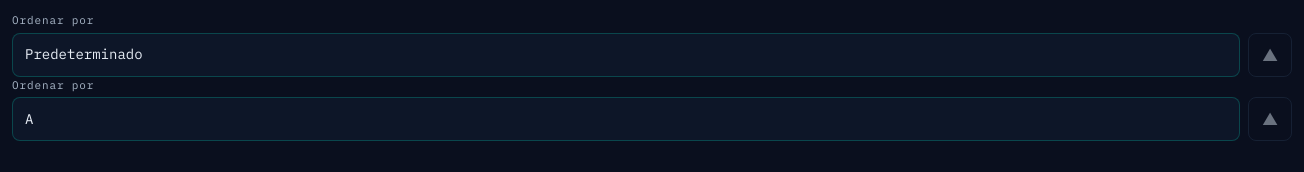
it: OrdenMovil › elegir columna -> asc; boton alterna; Predeterminado -> null
Step 1. Select "A" in the 2nd dropdown labelled "Ordenar por" → (626, 119), box [12,97,1240,141]
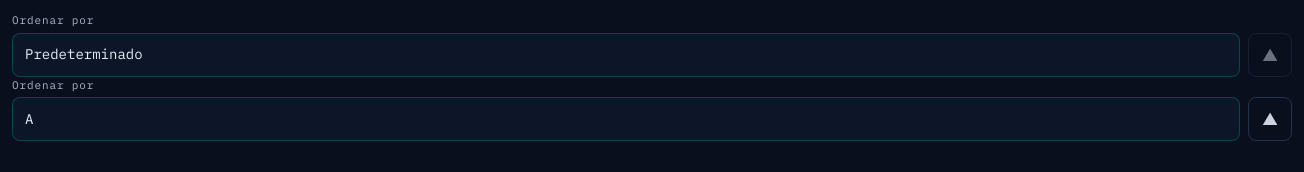
Check: the 2nd button "▲" is enabled
Step 2. Click the 2nd button "▲" → (1270, 119), box [1248,97,1292,141]
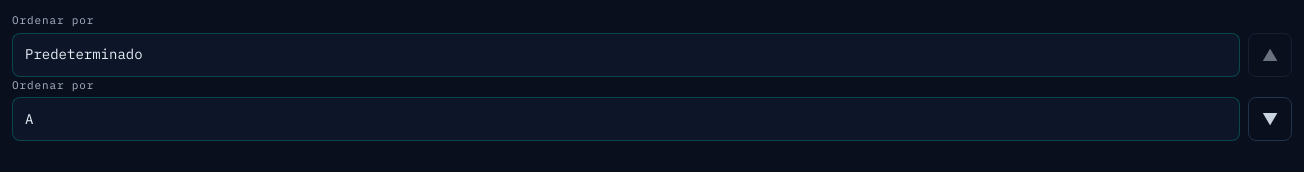
Check: the button "▼" is shown
Step 3. Click the button "▼" → (1270, 119), box [1248,97,1292,141]
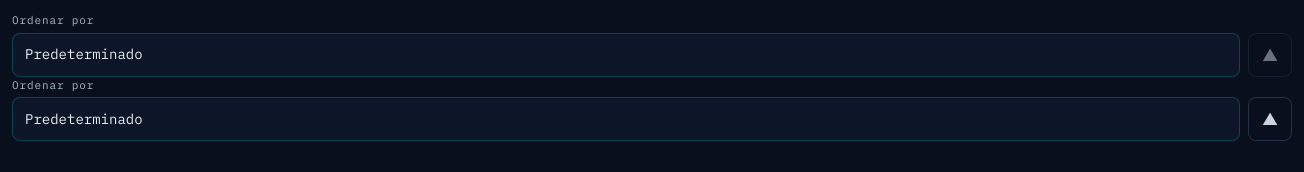
Step 4. Select "Predeterminado" in the 2nd dropdown labelled "Ordenar por" → (626, 119), box [12,97,1240,141]
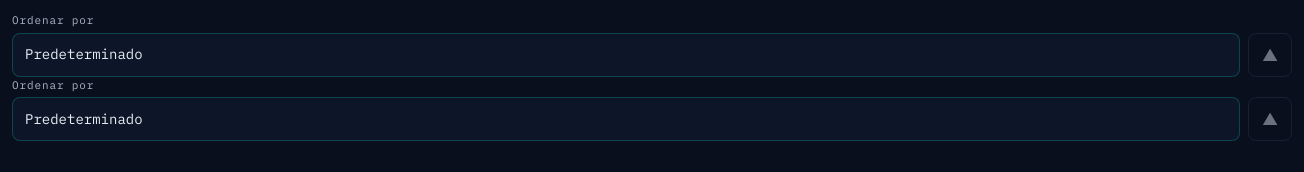
Check: the 2nd button "▲" is disabled, box [1248,97,1292,141]
